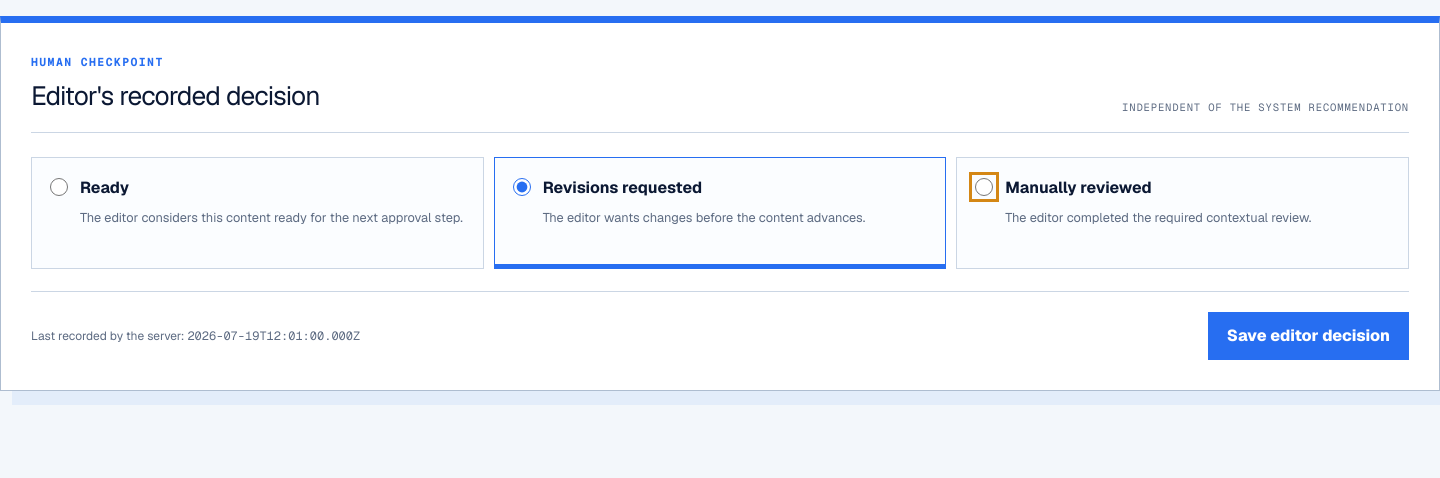
Test: actionable report UI › keeps the editor decision separate and saves a keyboard-selected exact value
Type keys "[Space]"
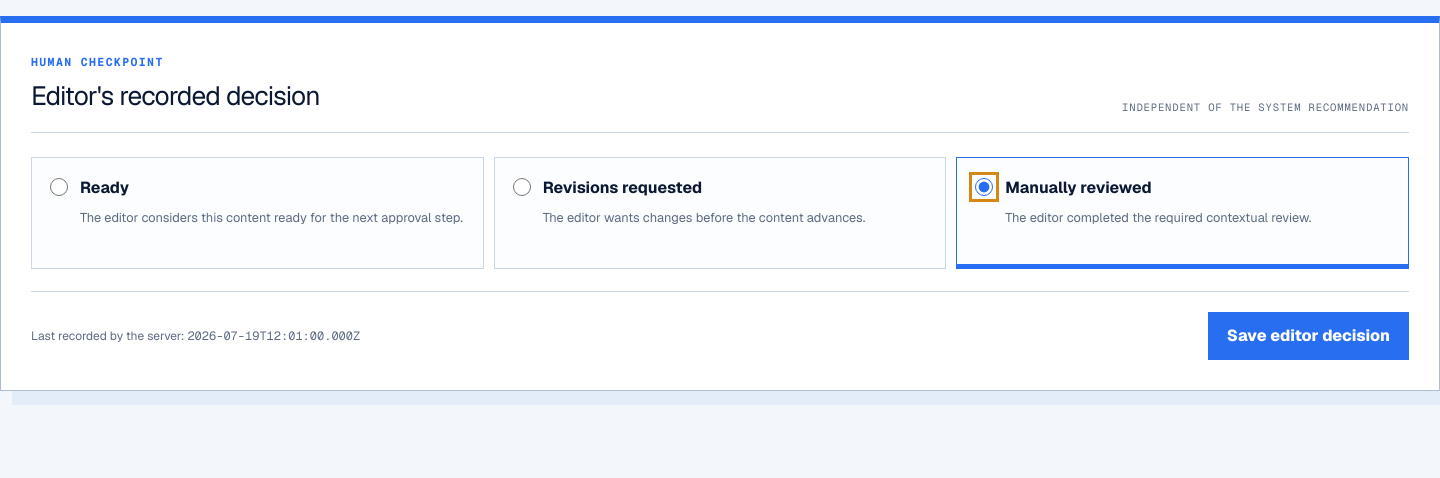
Click the button "Save editor decision" at x=1308, y=336, box top-left (1208, 312), bottom-right (1409, 360)
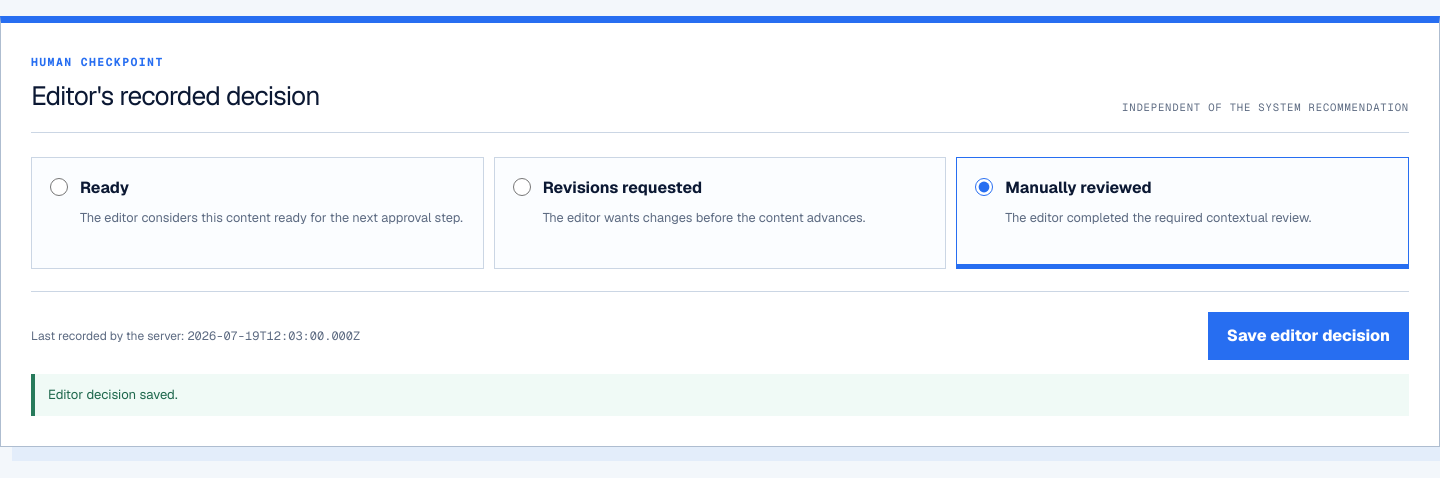
Expected: the element named "Editor's recorded decision" does not show "System recommendation", top-left (31, 157), bottom-right (1409, 269)
Now the message reads "Editor decision saved.", box top-left (48, 386), bottom-right (178, 403)
